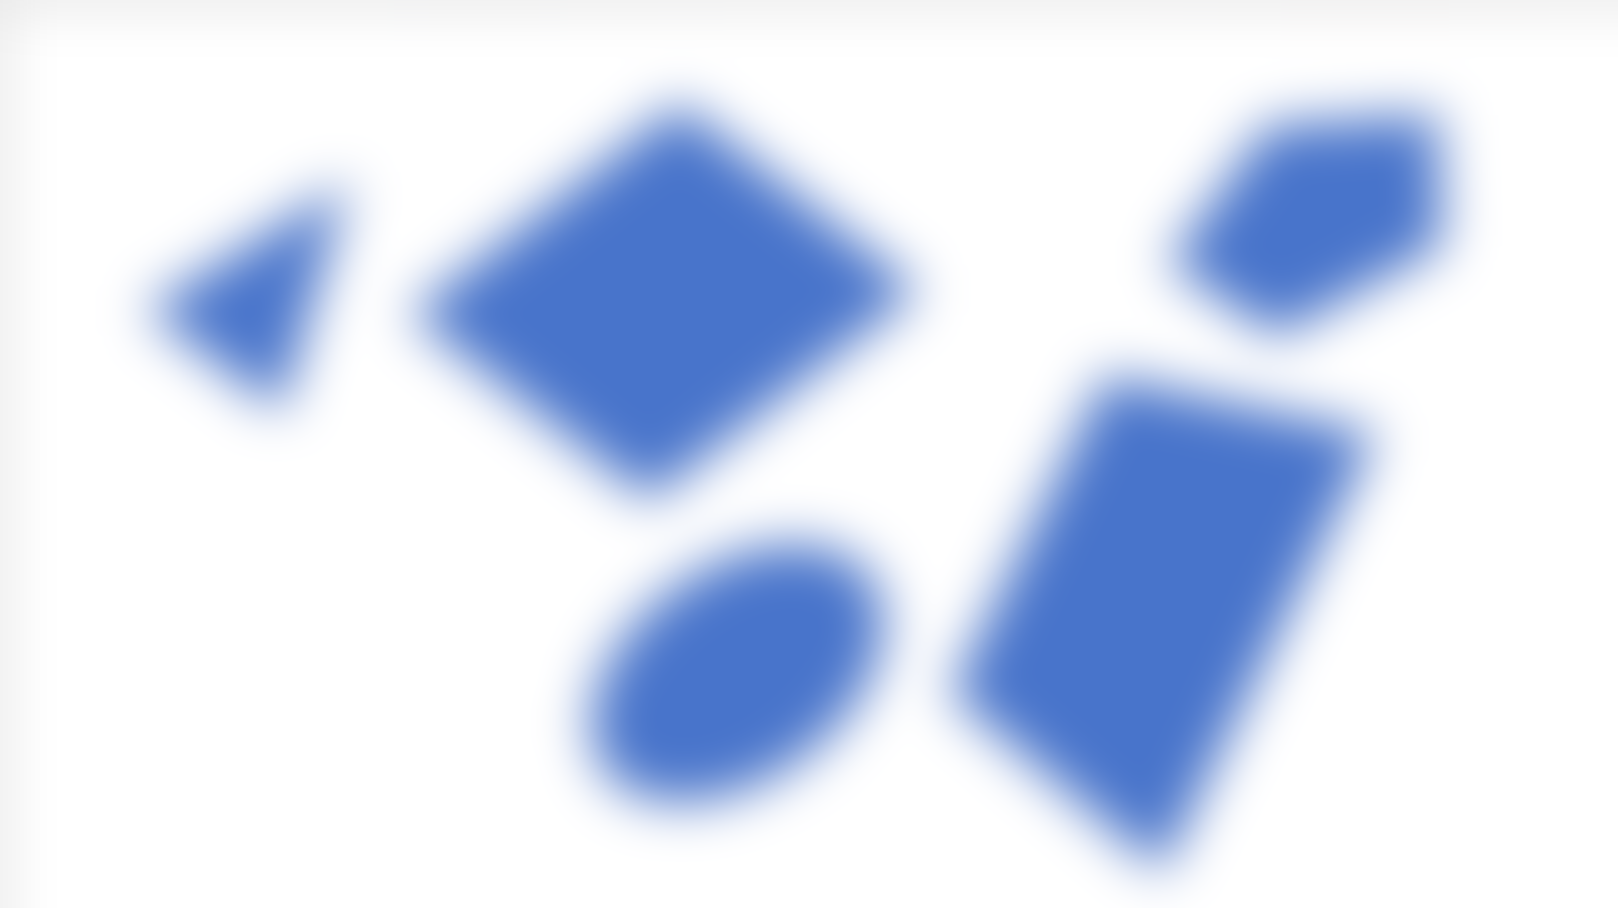circle: (536, 522, 933, 837)
parallelogram: (407, 97, 942, 506)
pentagon: (1157, 88, 1474, 337)
trapezium: (940, 360, 1380, 908)
triangle: (139, 174, 364, 409)
